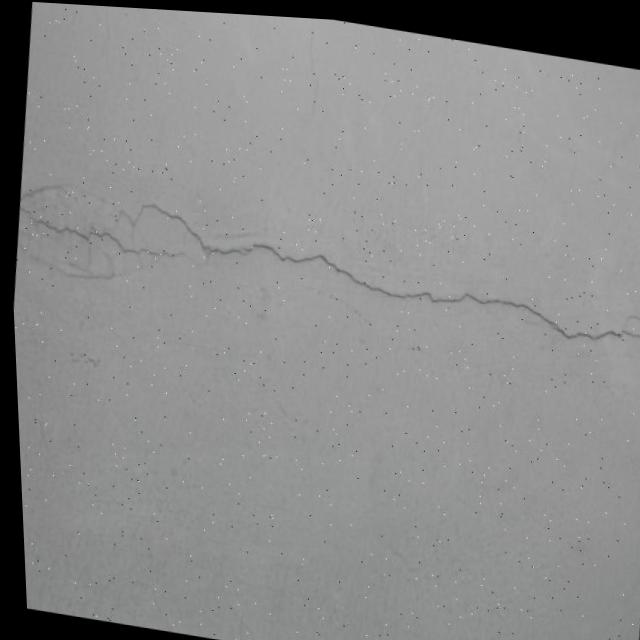Crack: (8, 172, 640, 377)
